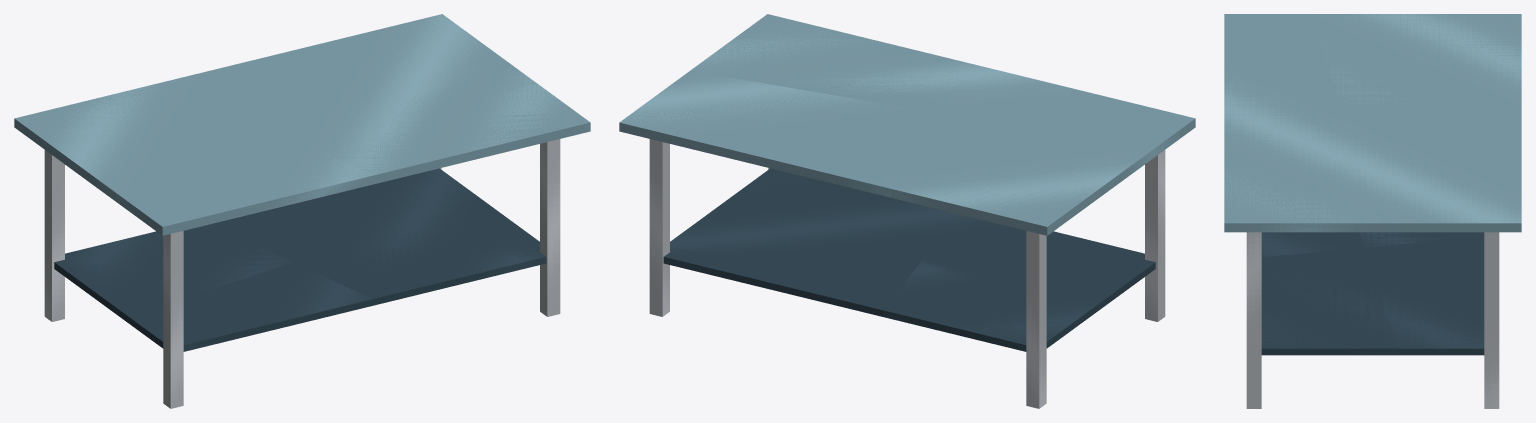
Rendered from mesa_centro_vidro.glb.
3 renders of one model, left to right at view 1: azimuth 30°, elevation 25°; view 2: azimuth 150°, elevation 25°; view 3: azimuth 270°, elevation 25°, orthographic.
Parts seen in each view (by area): view 1: Inteiro, Peca_02, Peca_00, Peca_01, Peca_03; view 2: Inteiro, Peca_03, Peca_02, Peca_01, Peca_00; view 3: Inteiro, Peca_02, Peca_03, Peca_01, Peca_00.
Part boxes in pixels (x1,y1,x2,y2): Inteiro: (14,14,590,408); Peca_02: (294,66,590,298); Peca_00: (120,152,373,351); Peca_01: (14,81,292,320); Peca_03: (173,14,508,261); Inteiro: (619,14,1194,408); Peca_03: (619,71,921,316); Peca_02: (690,14,971,199); Peca_01: (883,151,1151,351); Peca_00: (992,70,1195,257); Inteiro: (1224,14,1521,408); Peca_02: (1224,114,1399,355); Peca_03: (1348,101,1520,354); Peca_01: (1310,14,1521,247); Peca_00: (1224,14,1363,257).
Bounding box in the file's own units: 1 × 0.435 × 0.6.
1 material, 1 textured.
